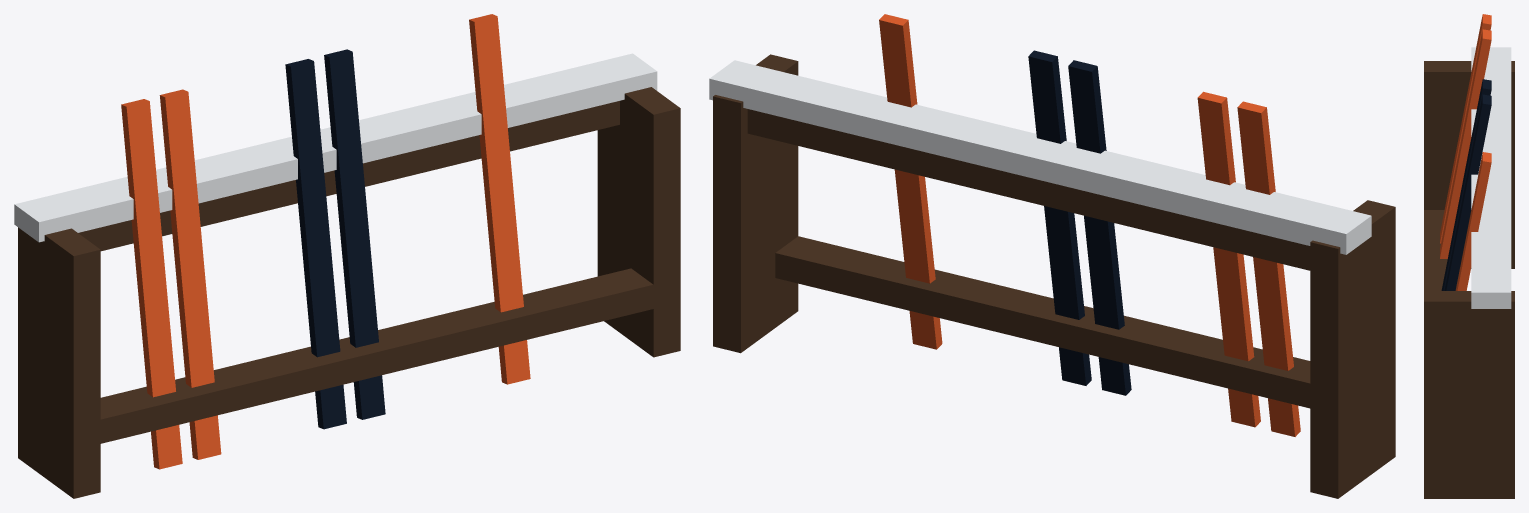
File: ski-rack.glb
3 renders of one model, left to right at view 1: azimuth 30°, elevation 25°; view 2: azimuth 150°, elevation 25°; view 3: azimuth 270°, elevation 25°, orthographic. The views are drawn at different scales.
Visible parts, largest first — view 1: ski-rack; view 2: ski-rack; view 3: ski-rack.
Boxes of the visible parts, x1,y1,x2,y2 form: ski-rack: (14,14,680,498); ski-rack: (709,14,1395,498); ski-rack: (1424,14,1514,498).
Size of the model in its own units: 3.2 by 1.7 by 0.5.
